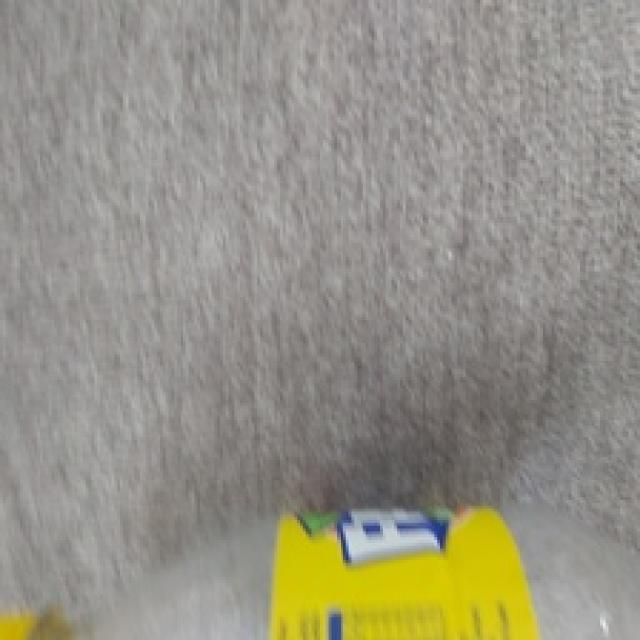good: (10, 508, 640, 640)
